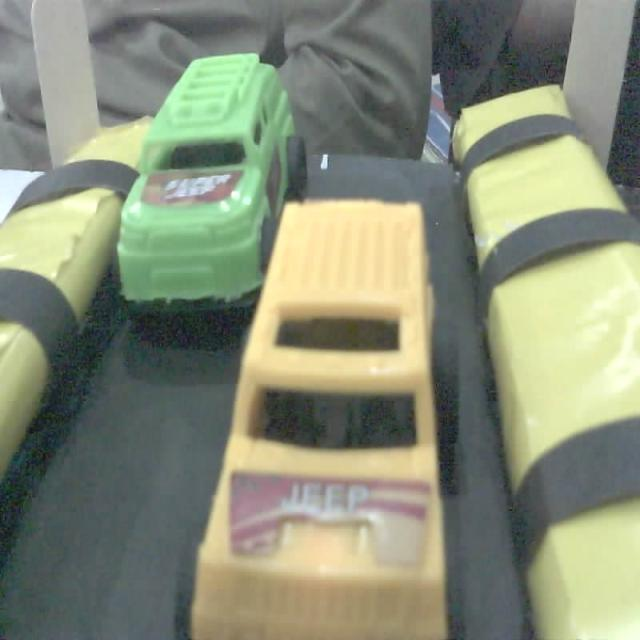TwoCar: (191, 201, 447, 639), (118, 54, 306, 310)
